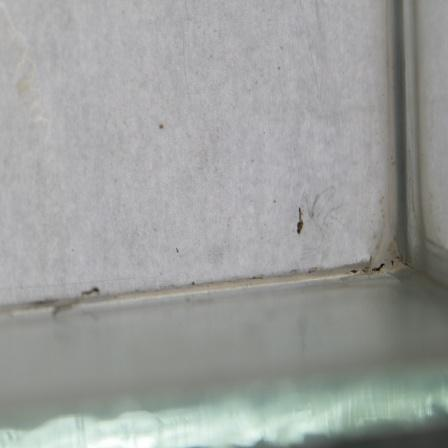Jentik-Nyamuk: (295, 206, 304, 237)
